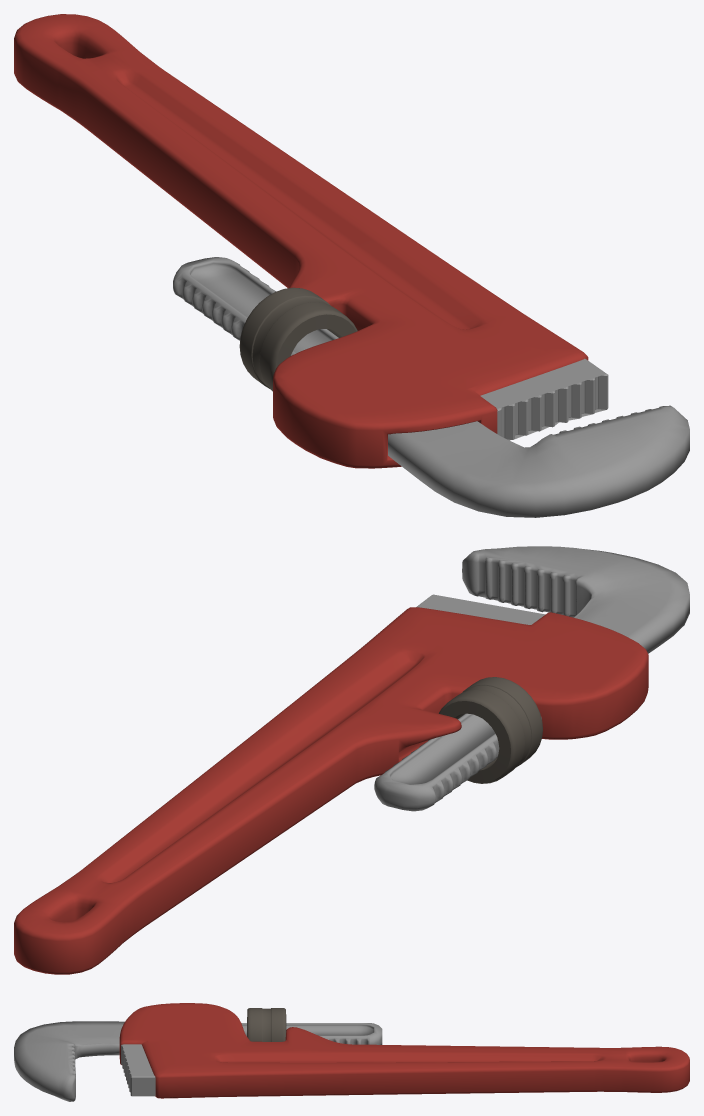
File: wrench.fbx
3 views of the same model, one above another, from view 1: azimuth 30°, elevation 25°; view 2: azimuth 150°, elevation 25°; view 3: azimuth 270°, elevation 25° (orthographic). The views are drawn at different scales.
Visible parts, largest first — view 1: Wrench; view 2: Wrench; view 3: Wrench.
Boxes of the visible parts, x1,y1,x2,y2 form: Wrench: [14, 14, 689, 517]; Wrench: [14, 546, 689, 974]; Wrench: [14, 1003, 689, 1101].
Size of the model in its own units: 14.55 by 4.56 by 53.36.
